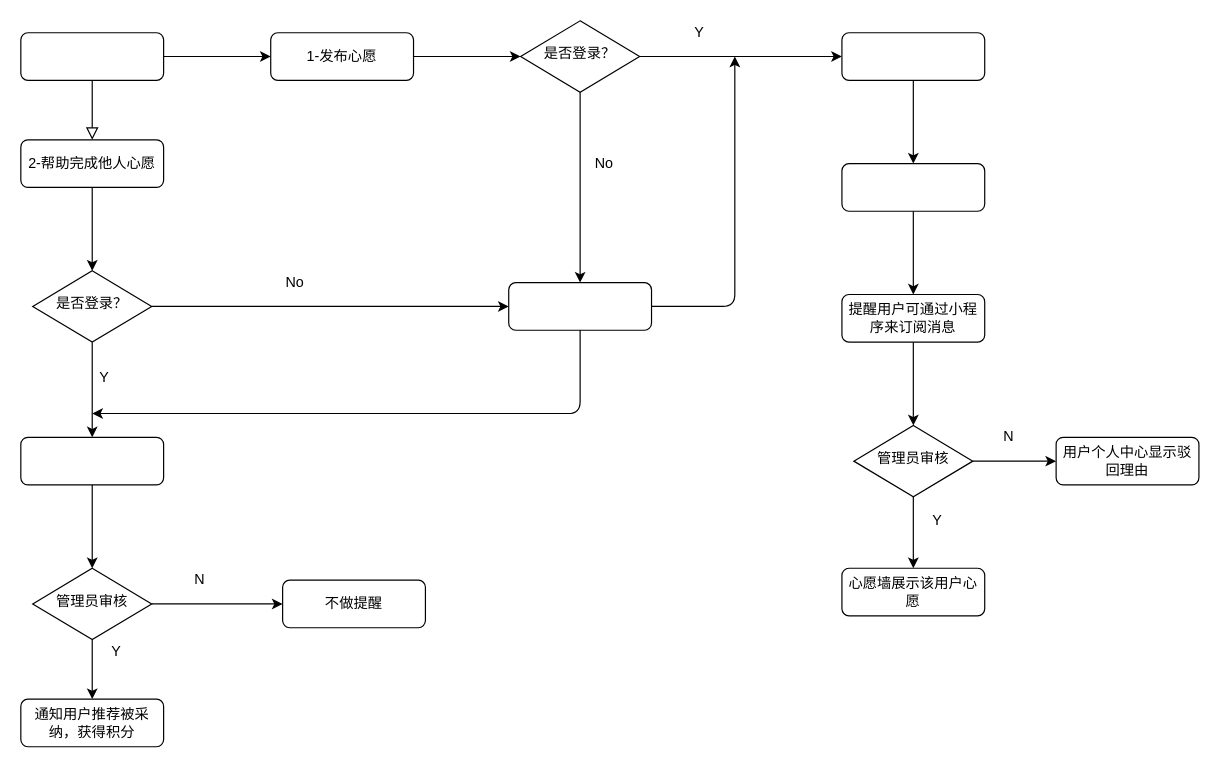
Image size: 1220x768. Some labels were removed from this diagram. Each missing label, with the box of its shape:
到个人中心发布心愿单: (841, 32, 985, 80)
发布流程: (841, 162, 985, 211)
推荐资源: (20, 436, 164, 485)
用户访问编程导航心愿墙: (20, 32, 164, 80)
登录流程: (508, 281, 652, 330)
